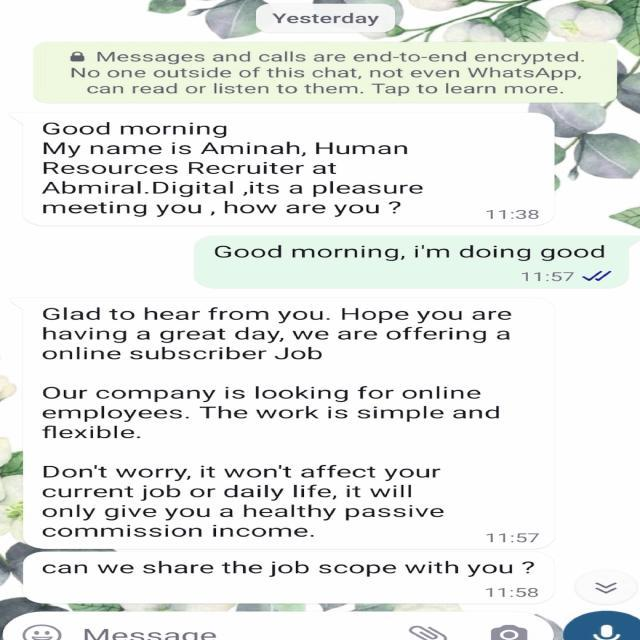scam: (25, 114, 478, 224), (34, 461, 480, 546), (31, 298, 529, 368), (28, 380, 534, 442), (49, 552, 544, 604)
